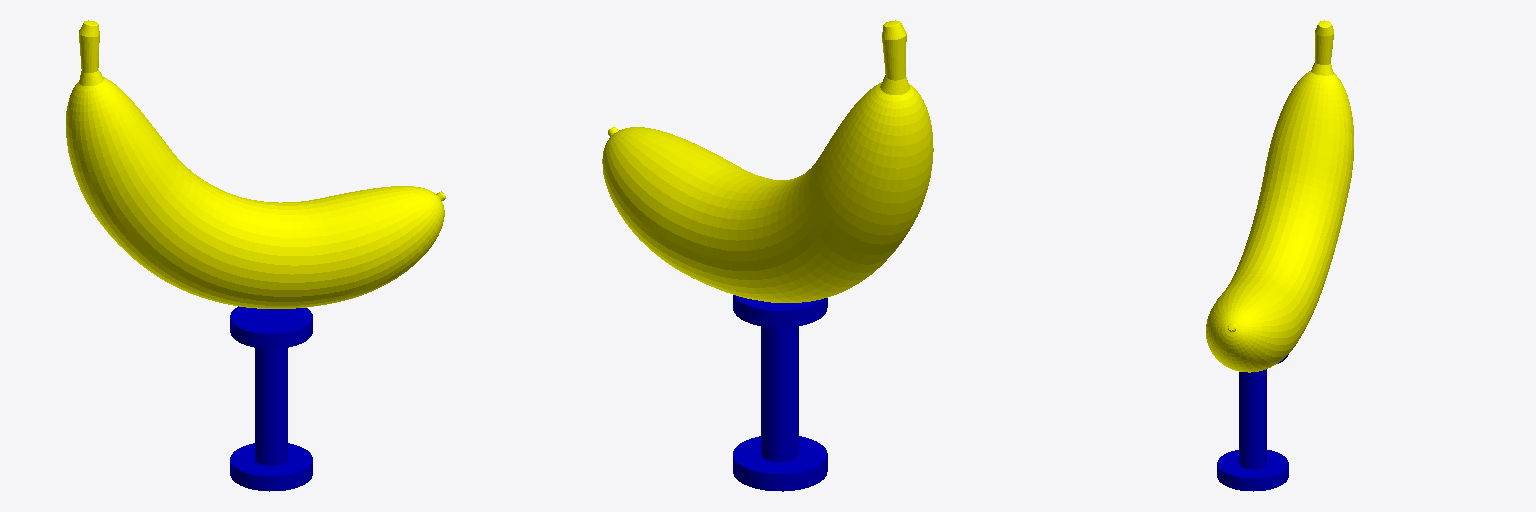
URDF robot description (physics):
<?xml version="1.0"?>
<robot name="physics">
  <link name="base_link">
    <visual>
      <geometry>
        <cylinder length="0.02" radius="0.05"/>
      </geometry>
      <material name="blue">
        <color rgba="0 0 .8 1"/>
      </material>
    </visual>
    <collision>
      <geometry>
        <cylinder length="0.02" radius="0.05"/>
      </geometry>
    </collision>
    <inertial>
      <mass value="0.01"/>
      <inertia ixx="0.000002" ixy="0.0" ixz="0.0" iyy="0.000002" iyz="0.0" izz="0.000002"/>
    </inertial>
  </link>

  <link name="grasp_cylinder">
    <visual>
      <geometry>
        <cylinder length="0.18" radius="0.02"/>
      </geometry>
      <material name="blue">
        <color rgba="0 0 .8 1"/>
      </material>
    </visual>
    <collision>
      <geometry>
        <cylinder length="0.12" radius="0.01"/>
      </geometry>
    </collision>
    <inertial>
      <mass value="0.01"/>
      <inertia ixx="0.000002" ixy="0.0" ixz="0.0" iyy="0.000002" iyz="0.0" izz="0.000002"/>
    </inertial>
  </link>

  <joint name="jfixed1" type="fixed">
    <parent link="base_link"/>
    <child link="grasp_cylinder"/>
    <origin xyz="0 0 0.09"/>
  </joint>


  <link name="top_cylinder">
    <visual>
      <geometry>
        <cylinder length="0.02" radius="0.05"/>
      </geometry>
      <material name="blue">
        <color rgba="0 0 .8 1"/>
      </material>
    </visual>
    <collision>
      <geometry>
        <cylinder length="0.02" radius="0.05"/>
      </geometry>
    </collision>
    <inertial>
      <mass value="0.01"/>
      <inertia ixx="0.000002" ixy="0.0" ixz="0.0" iyy="0.000002" iyz="0.0" izz="0.000002"/>
    </inertial>
  </link>

  <joint name="jfixed2" type="fixed">
    <parent link="grasp_cylinder"/>
    <child link="top_cylinder"/>
    <origin xyz="0 0 0.1"/>
  </joint>

  <link name="banana">
    <contact>
      <lateral_friction value="1.0"/>
      <rolling_friction value="0.0"/>
      <contact_cfm value="0.0"/>
      <contact_erp value="1.0"/>
    </contact>
    <inertial>
      <origin rpy="0 0 0" xyz="0.0 0.02 0.0"/>
       <mass value=".001"/>
       <inertia ixx="1e-9" ixy="0" ixz="0" iyy="1e-9" iyz="0" izz="1e-9"/>
    </inertial>
    <visual>
      <origin rpy="1.57 0 0" xyz="0 0 0"/>
      <geometry>
        <mesh filename="banana1.obj" scale="0.5 0.5 0.5"/>
      </geometry>
       <material name="red">
        <color rgba="1 1 0 1"/>
      </material>
    </visual>
    <collision>
      <origin rpy="1.57 0 0" xyz="0 0 0"/>
      <geometry>
	 	<mesh filename="banana1.obj" scale="0.5 0.5 0.5"/>
      </geometry>
    </collision>
  </link>

    <joint name="jfixed_stuff" type="fixed">
    <parent link="top_cylinder"/>
    <child link="banana"/>
    <origin rpy="0 0 0" xyz="0 0 0.01"/>
  </joint>


</robot>

--- Facts derived from the render (not from the file) ---
The picture shows the robot from 3 angles, left to right: view 1: azimuth 30°, elevation 25°; view 2: azimuth 150°, elevation 25°; view 3: azimuth 270°, elevation 25°; orthographic projection.
Model physics with 4 links and 3 joints (3 fixed), rooted at base_link, posed every joint at zero.
Visible links, largest first — view 1: banana, grasp_cylinder, top_cylinder, base_link; view 2: banana, grasp_cylinder, base_link, top_cylinder; view 3: banana, grasp_cylinder, base_link.
Link boxes in pixels (x1,y1,x2,y2): banana: [66, 20, 445, 308]; grasp_cylinder: [255, 348, 287, 465]; top_cylinder: [230, 306, 312, 348]; base_link: [230, 443, 312, 491]; banana: [602, 20, 933, 302]; grasp_cylinder: [761, 326, 798, 461]; base_link: [733, 436, 827, 491]; top_cylinder: [733, 295, 827, 327]; banana: [1206, 20, 1353, 372]; grasp_cylinder: [1239, 369, 1266, 468]; base_link: [1217, 450, 1288, 491].
Bounding box of the posed robot: 0.4545 × 0.2074 × 0.608 m (x, y, z).
1 mesh visuals loaded from 1 distinct referenced files (1 OBJ).